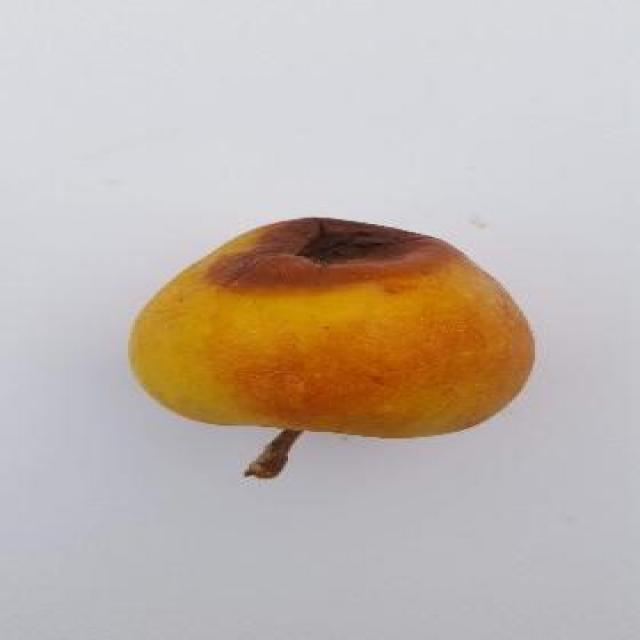Rotten: (119, 215, 526, 457)
